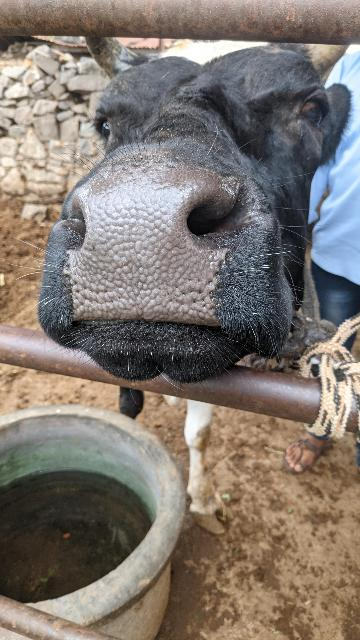Muzzle: (84, 173, 207, 313)
